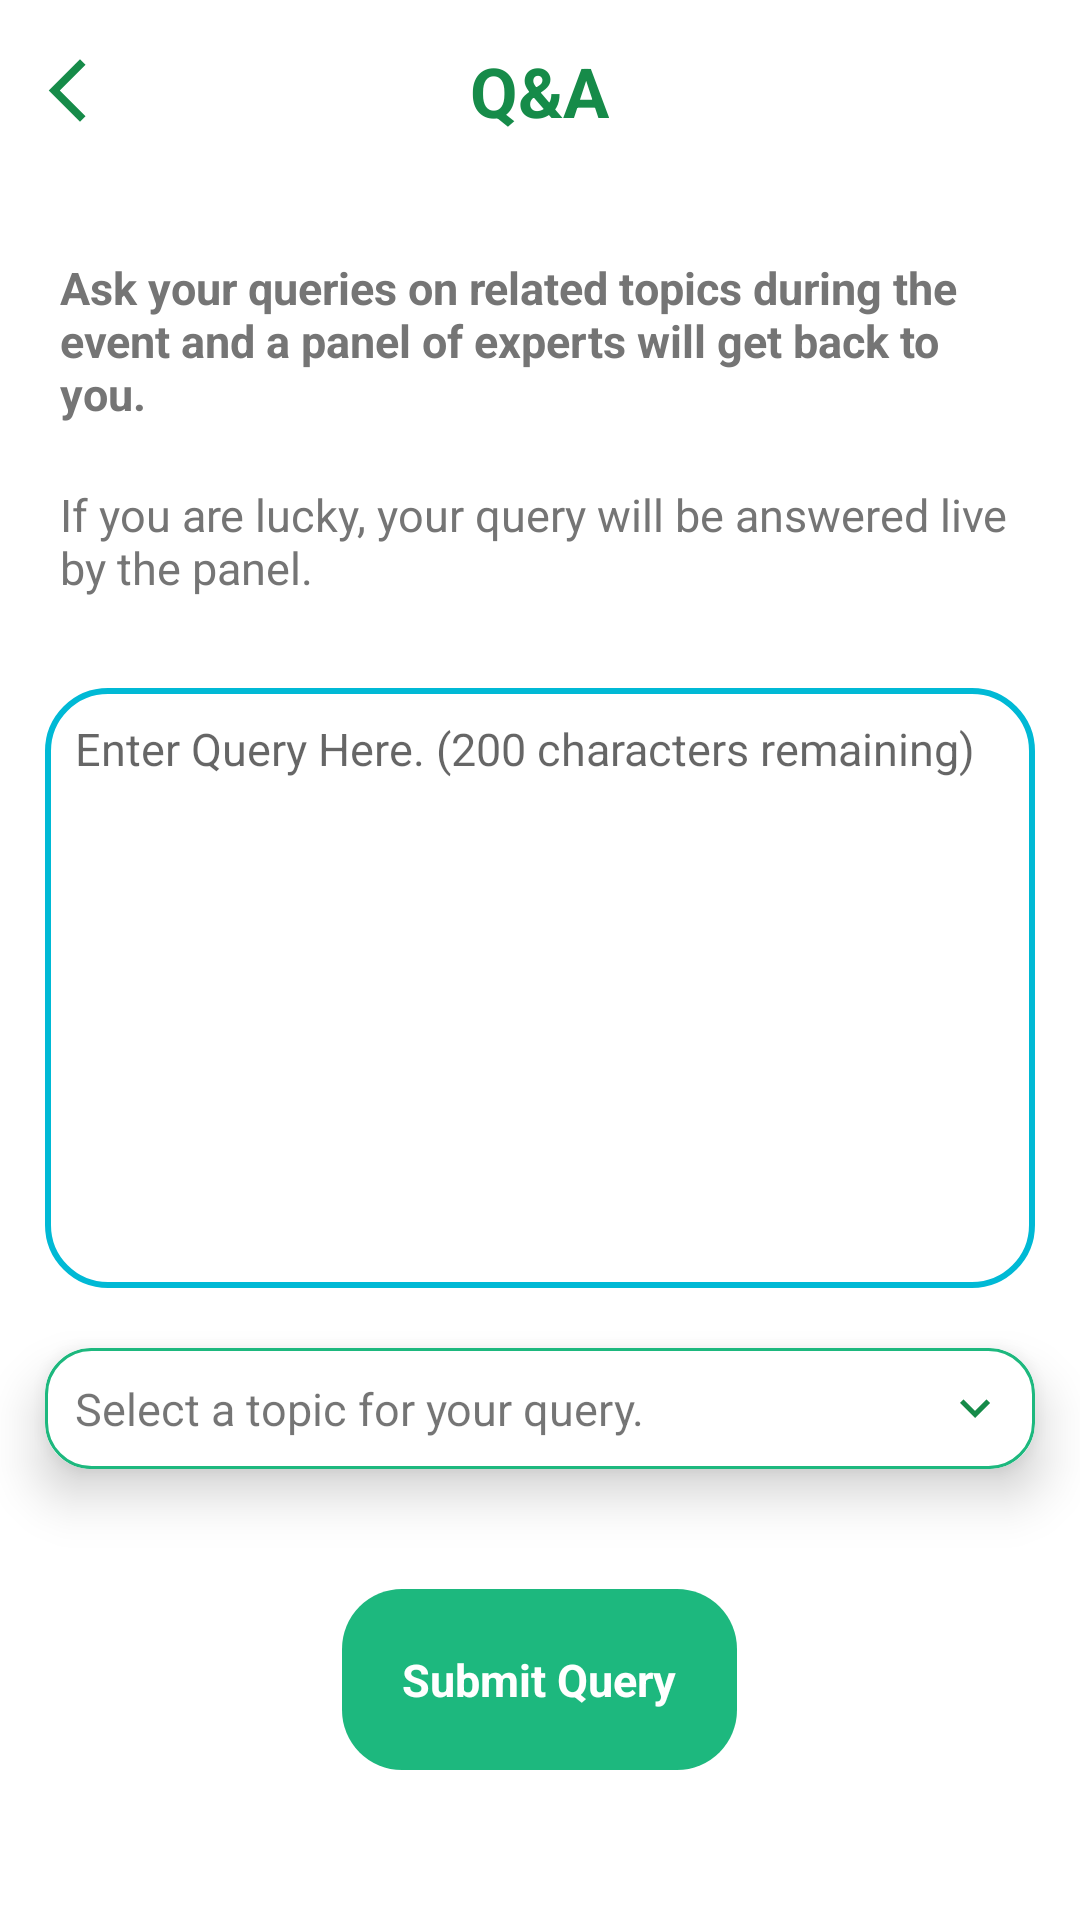

Icon bounding boxes for this 1080x1920 phone screenshot, format Rect(x1, y1, x2, y2):
down arrow: Rect(960, 1399, 990, 1418)
